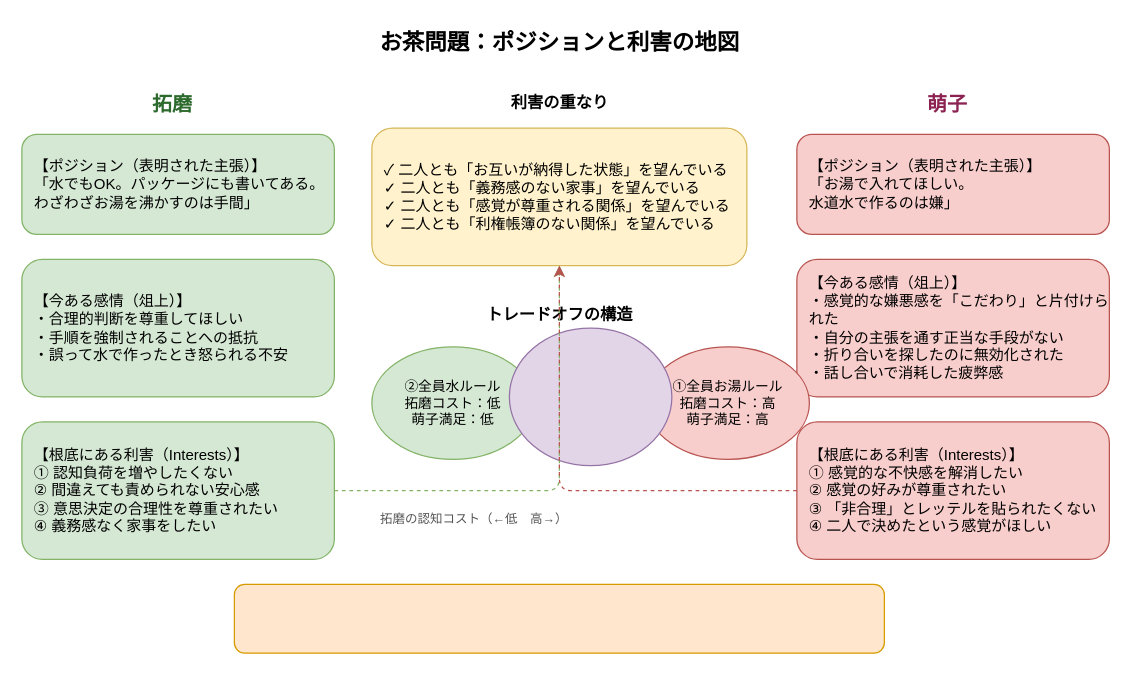
Image size: 1131x675. Some labels were removed from this diagram. The centre of each missing label's shape, as x and y in pixels:
"③作者ルール 拓磨が作る→水OK 萌子が作る→お湯 拓磨コスト：低 萌子：妥協あり" goes at (x=590, y=396).
"注目点：③「作者ルール」は元々萌子が提案し、拓磨が却下した案 →「感情的」と判断されたが、利害マップで見ると双方の利害に最もフィットする可能性がある" goes at (x=558, y=618).
